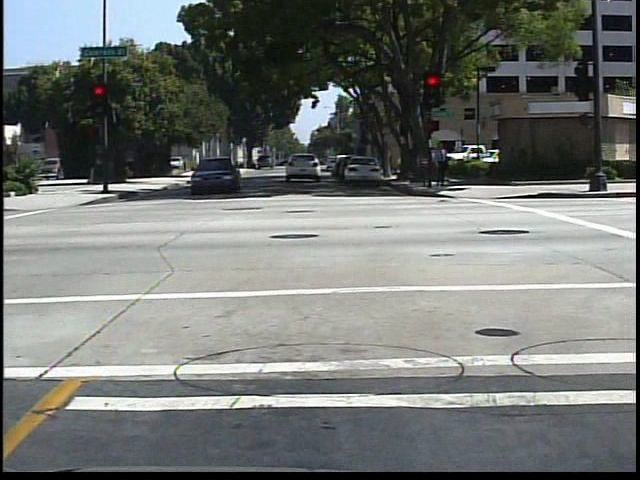person: (429, 138, 453, 190)
